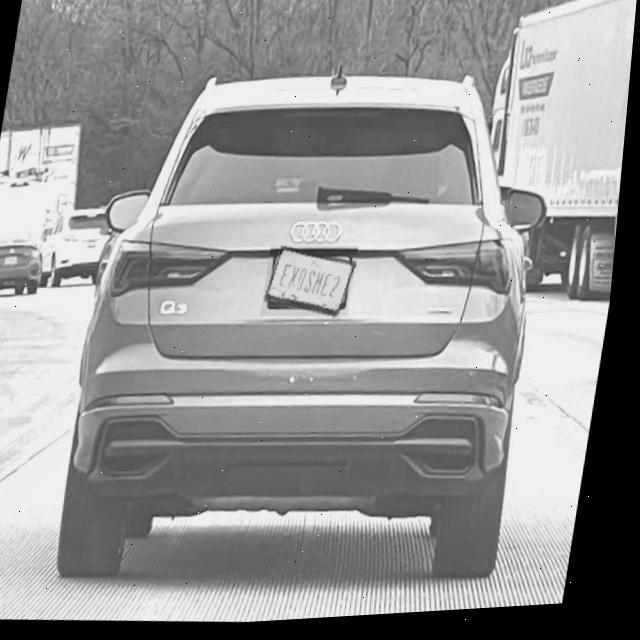LicensePlate: (268, 249, 361, 321)
